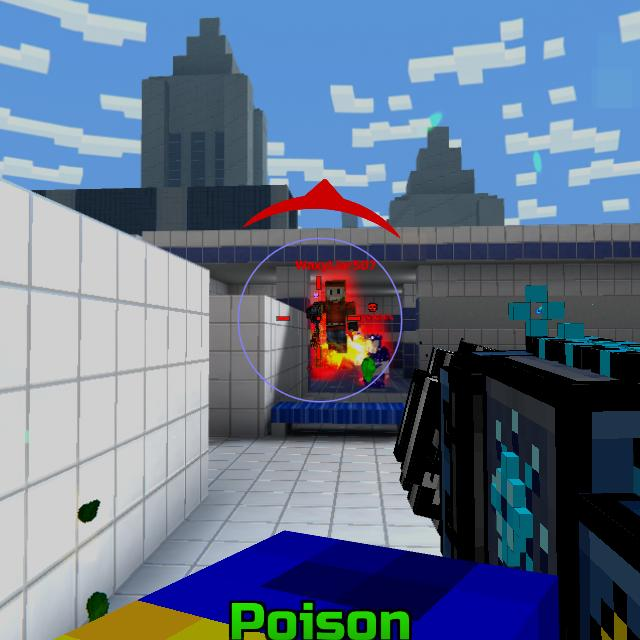Enemy: (310, 282, 360, 368), (360, 332, 391, 384)
